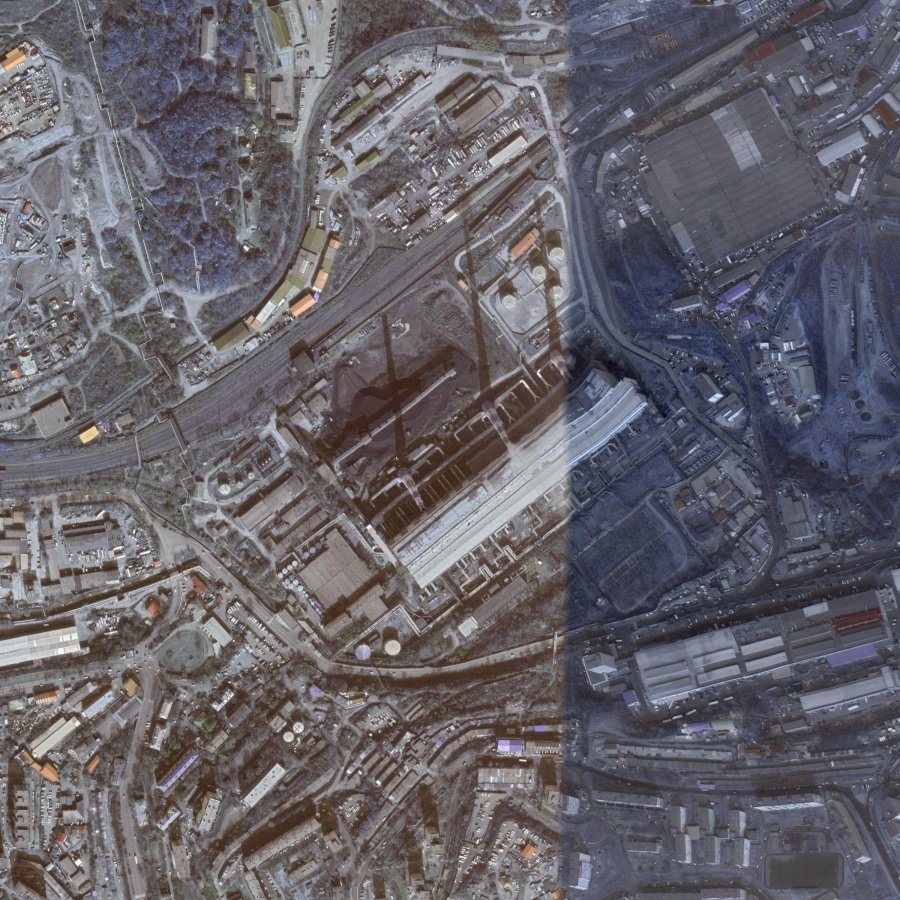PowerPlant: (316, 223, 644, 591)
